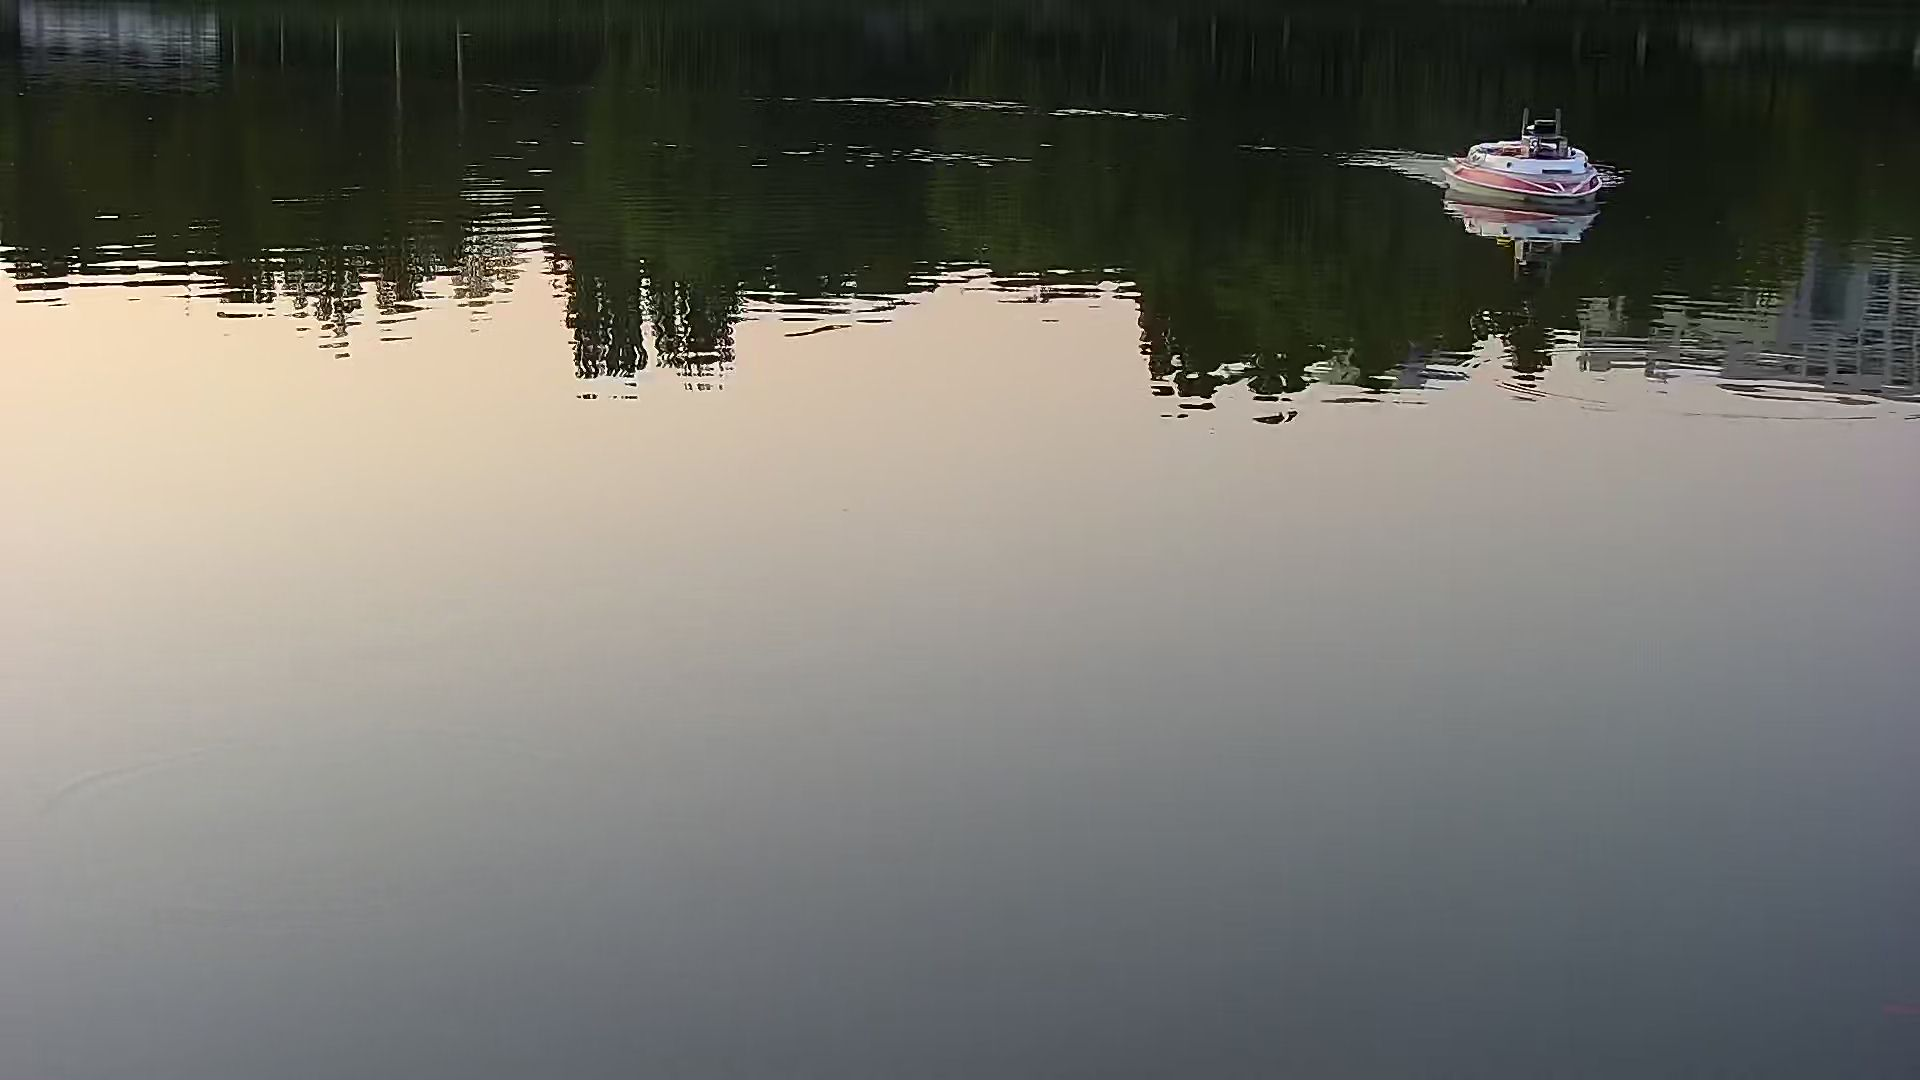boat: (1449, 108, 1609, 220)
